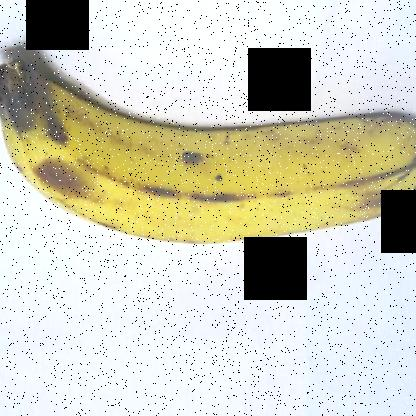ripe: (0, 49, 415, 255)
